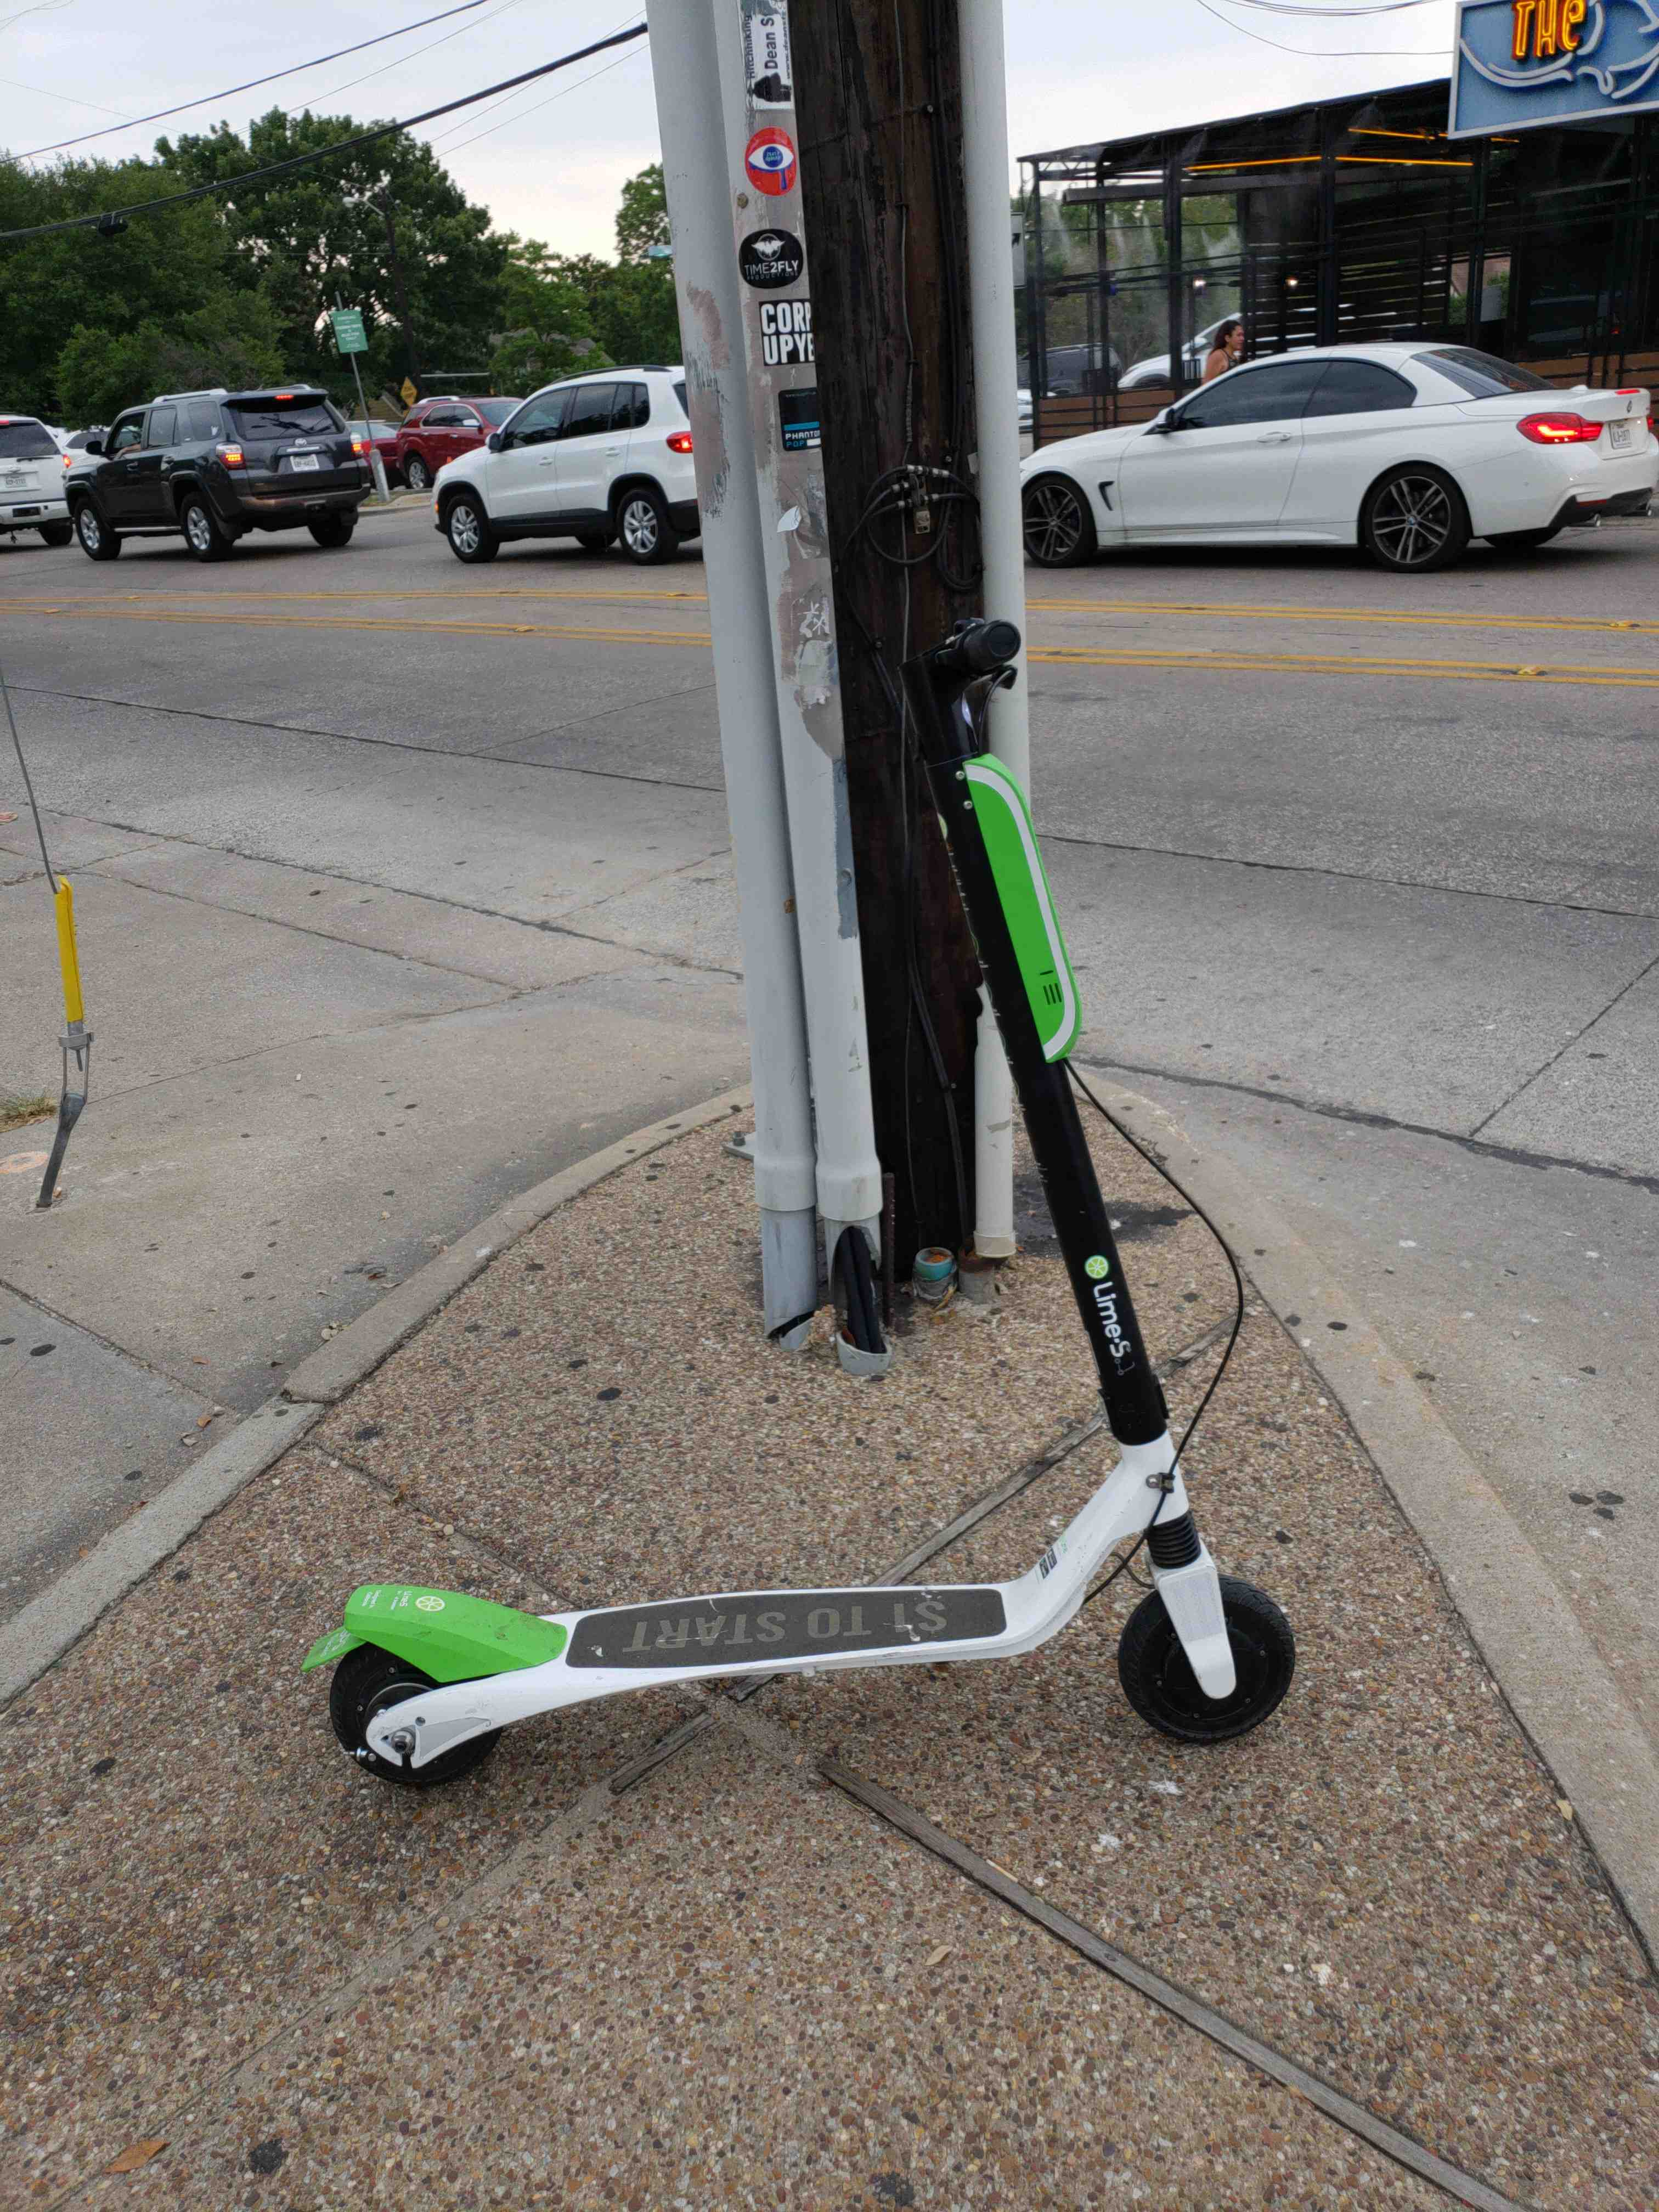scooter: (275, 610, 1304, 1829)
